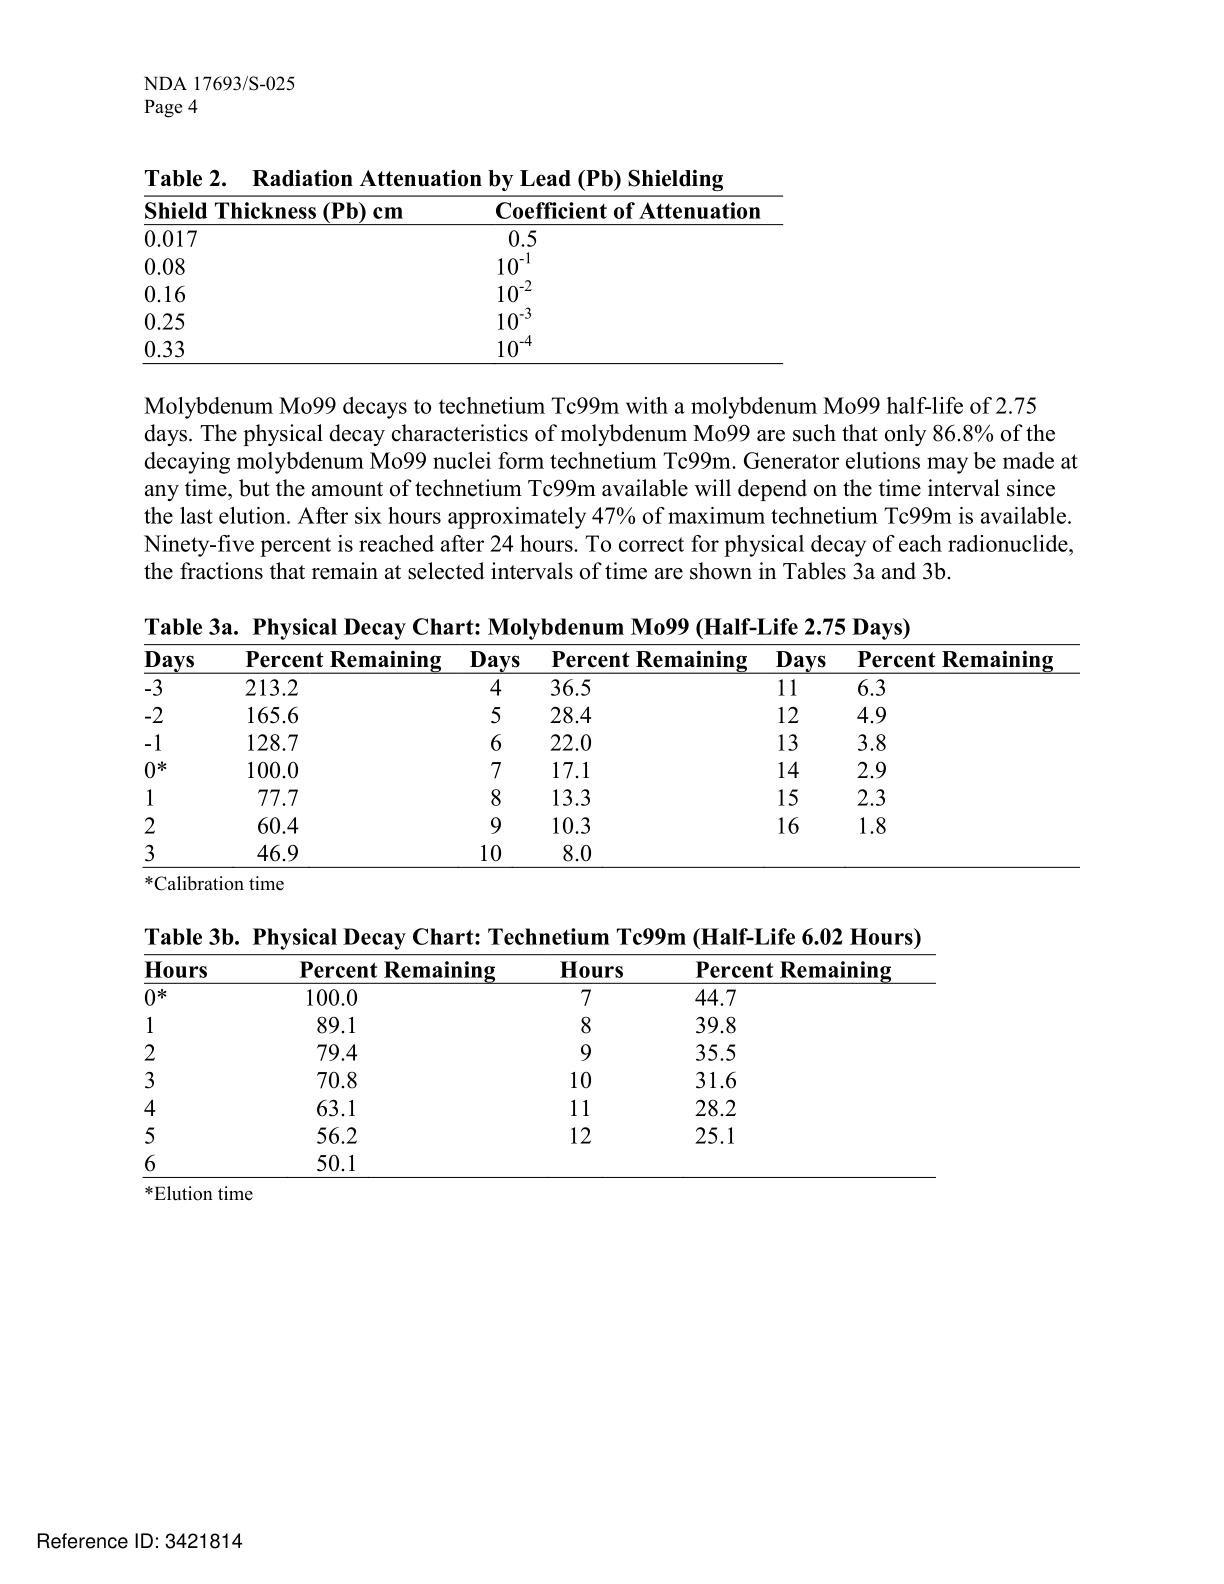partial_lined: (144, 642, 1084, 869), (141, 950, 937, 1182), (141, 192, 786, 366)
